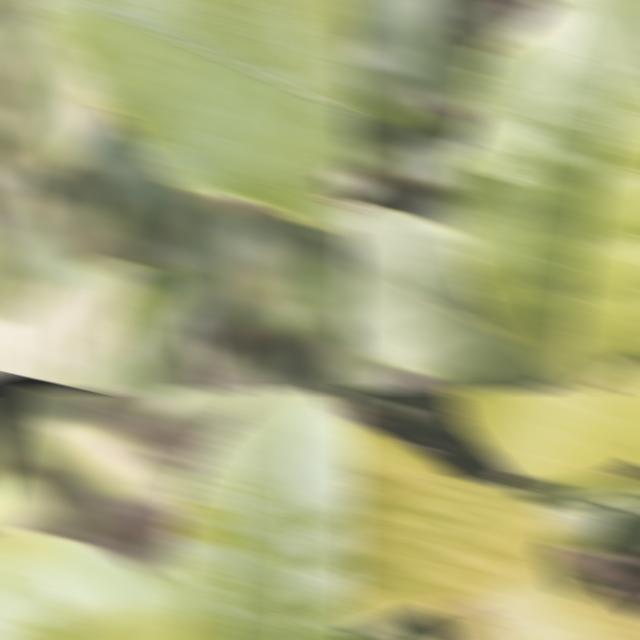Leaf: (24, 0, 360, 229), (445, 0, 640, 392), (167, 388, 360, 640), (344, 203, 557, 390), (0, 229, 216, 392), (344, 476, 560, 633), (0, 530, 188, 640), (430, 545, 640, 640), (448, 388, 640, 482), (6, 24, 110, 176), (31, 416, 185, 510), (344, 0, 457, 93), (511, 474, 640, 552), (344, 417, 464, 483), (344, 61, 428, 127), (148, 388, 270, 419), (405, 134, 464, 191), (316, 351, 360, 392)
